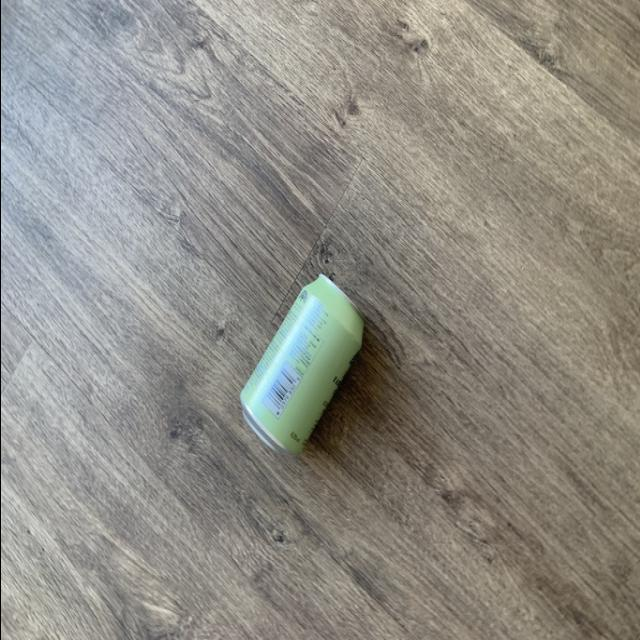litter: (238, 268, 366, 456)
